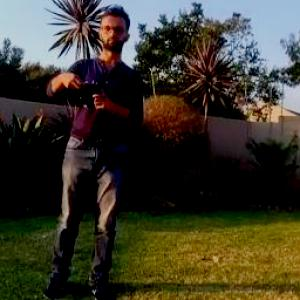follow: (37, 0, 149, 299)
